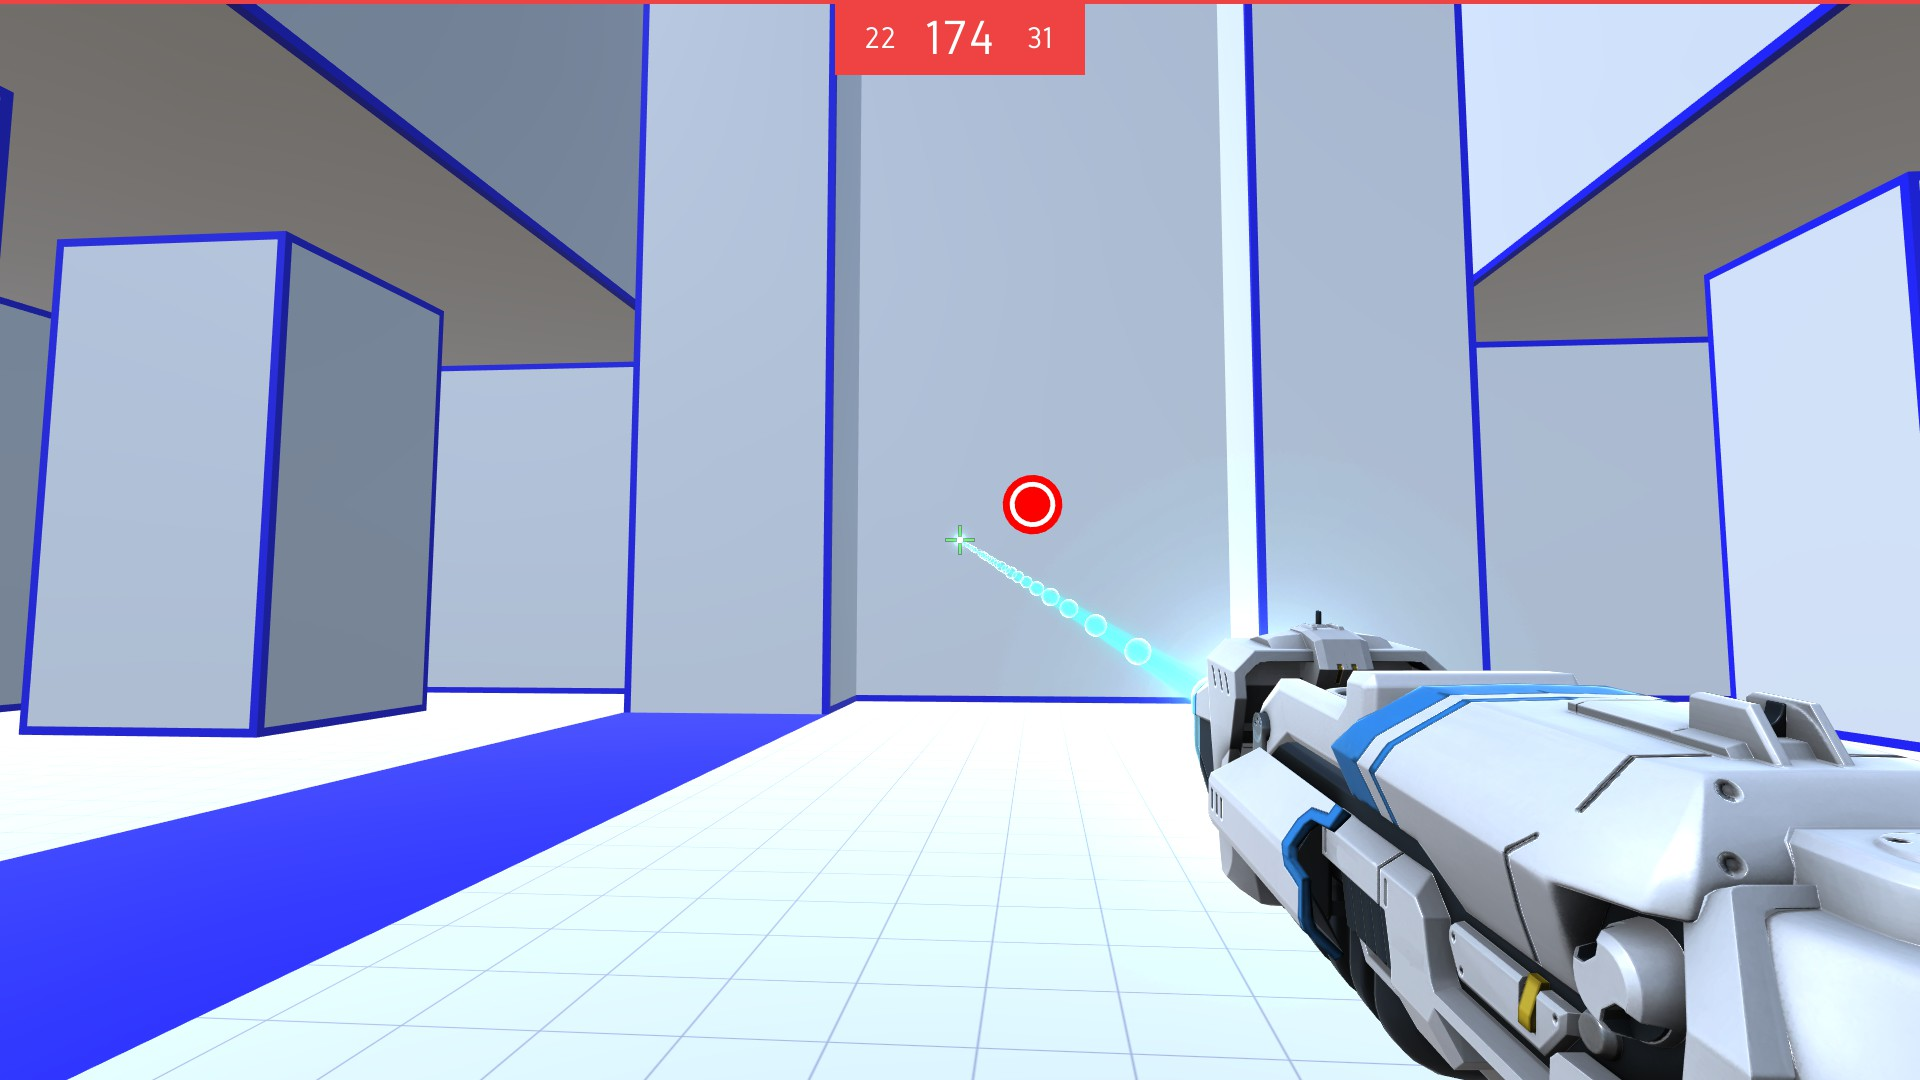target: (1002, 473, 1067, 537)
